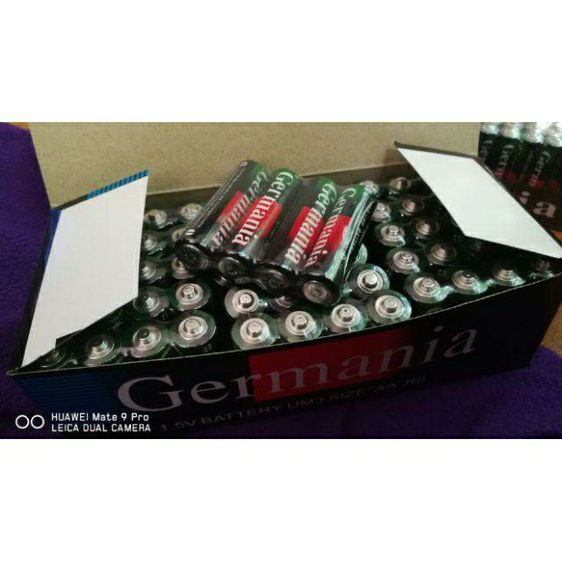Battery: (173, 158, 269, 275), (211, 167, 303, 286), (295, 182, 379, 309), (167, 308, 220, 352)
